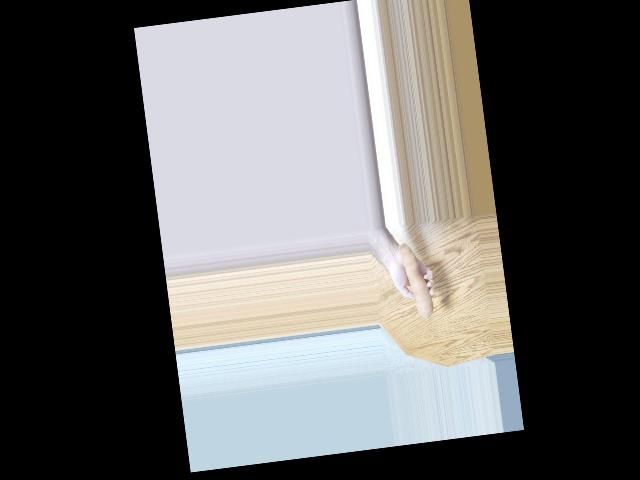sweet_potato: (396, 244, 439, 324)
